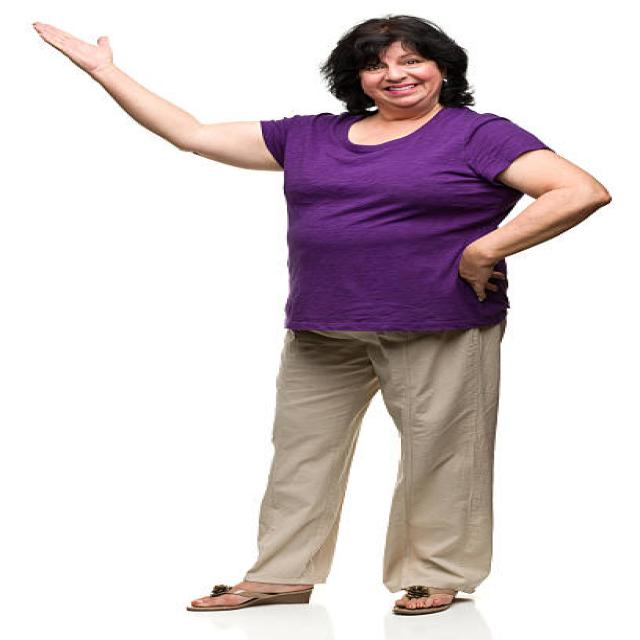Edited images: (32, 11, 615, 618)
